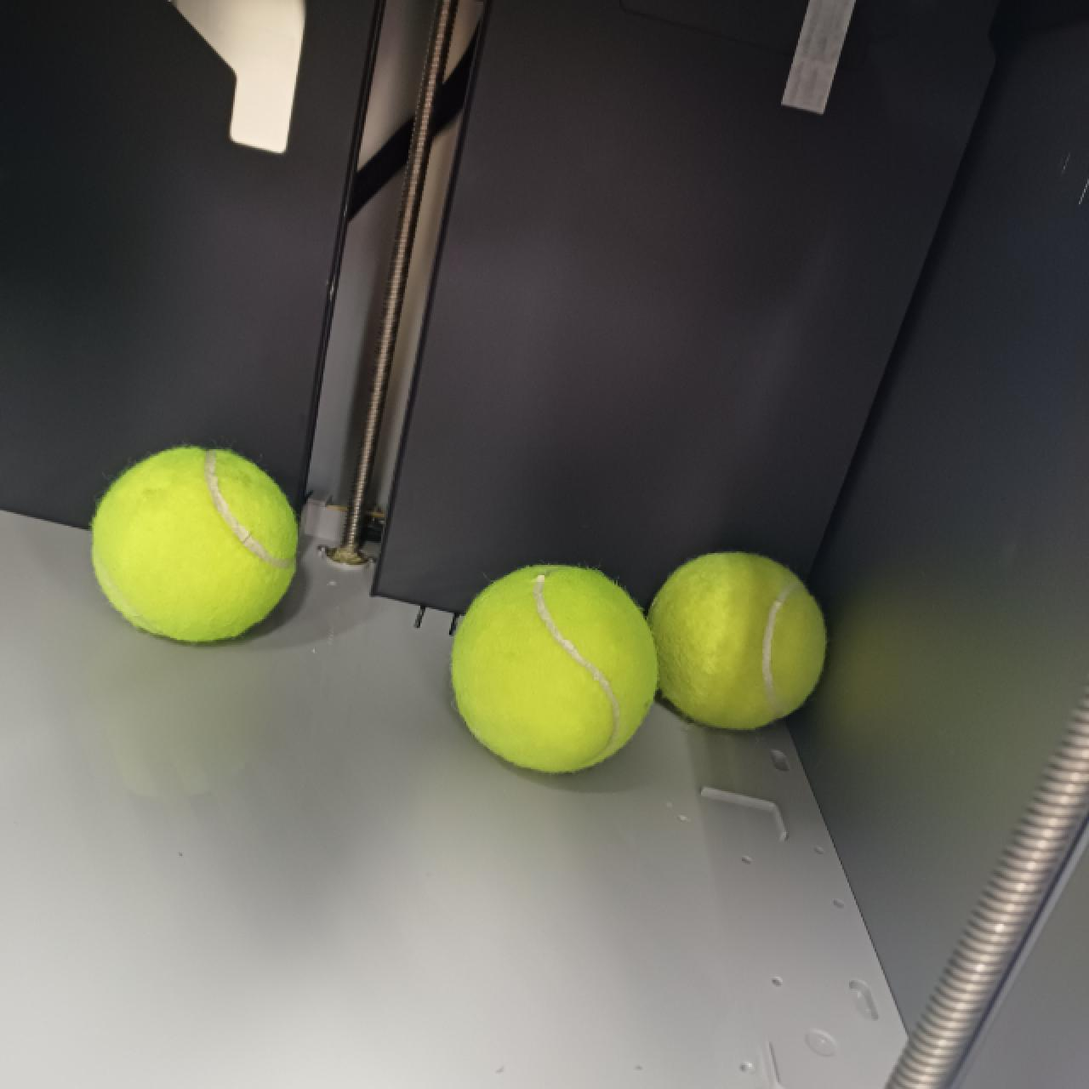tennis-ball: (447, 563, 662, 774), (90, 445, 297, 648), (645, 551, 829, 733)
